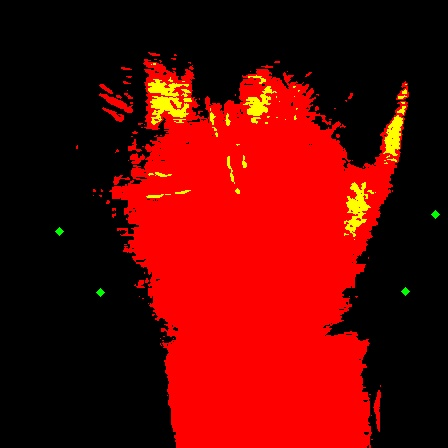coin_1: (100, 292, 120, 312)
coin_2: (59, 231, 79, 251)
coin_3: (405, 291, 425, 311)
coin_4: (435, 214, 448, 234)
